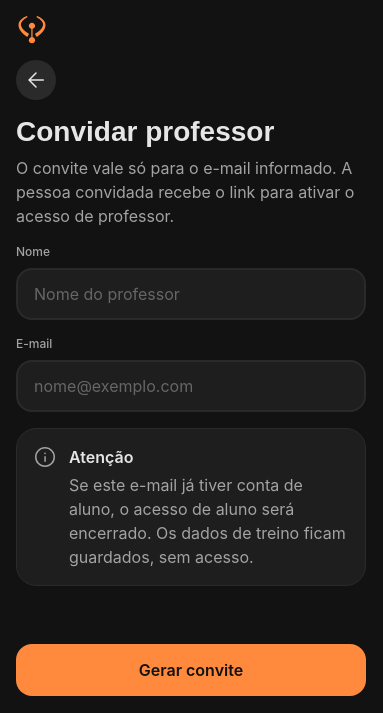
Test: Convidar professor (regras 87 e 92) › erro email_is_admin do servidor aparece no campo de e-mail
Type "Fernanda Lopes" into the field labelled "Nome". click: (191,294)
box: left=34, top=270, right=348, bottom=318
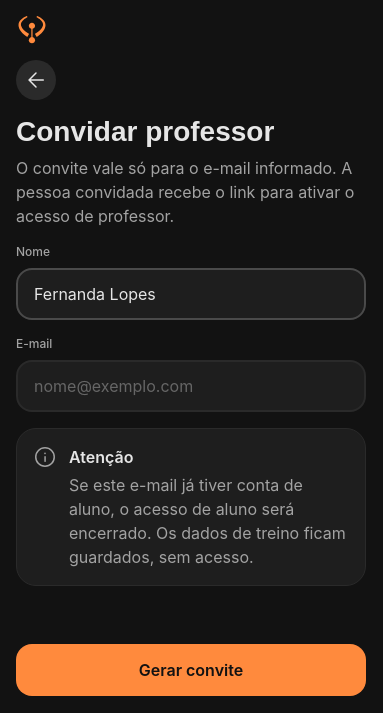
Type "fernanda@exemplo.com" into the field labelled "E-mail". click: (191,386)
box: left=34, top=362, right=348, bottom=410
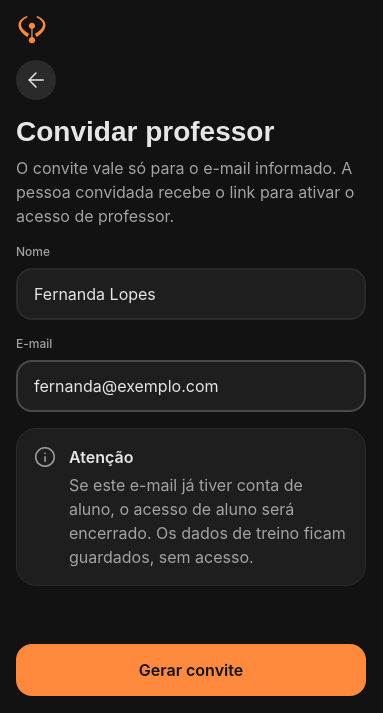
Click the button "Gerar convite". click: (191,670)
box: left=16, top=644, right=366, bottom=696
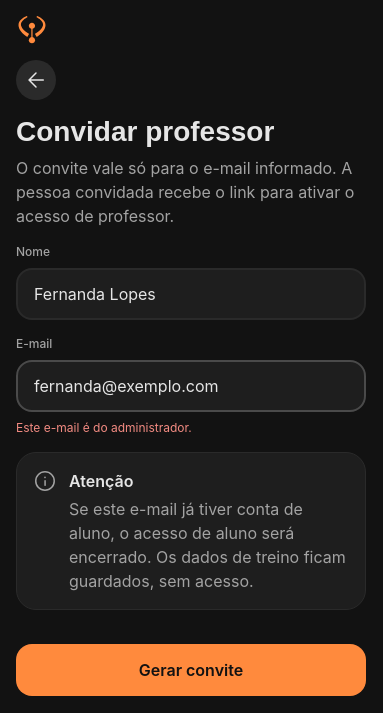
Now the text "Este e-mail é do administrador." is shown, box left=16, top=420, right=192, bottom=435
